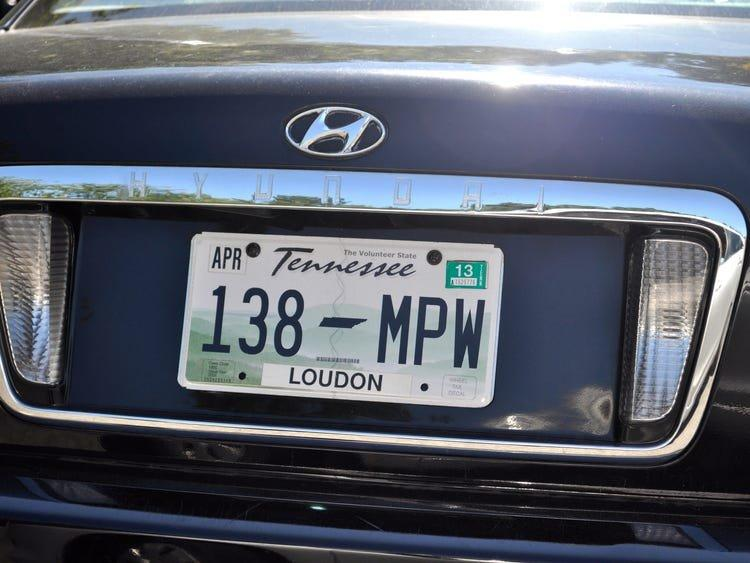Liscence Plate: (192, 234, 491, 405)
